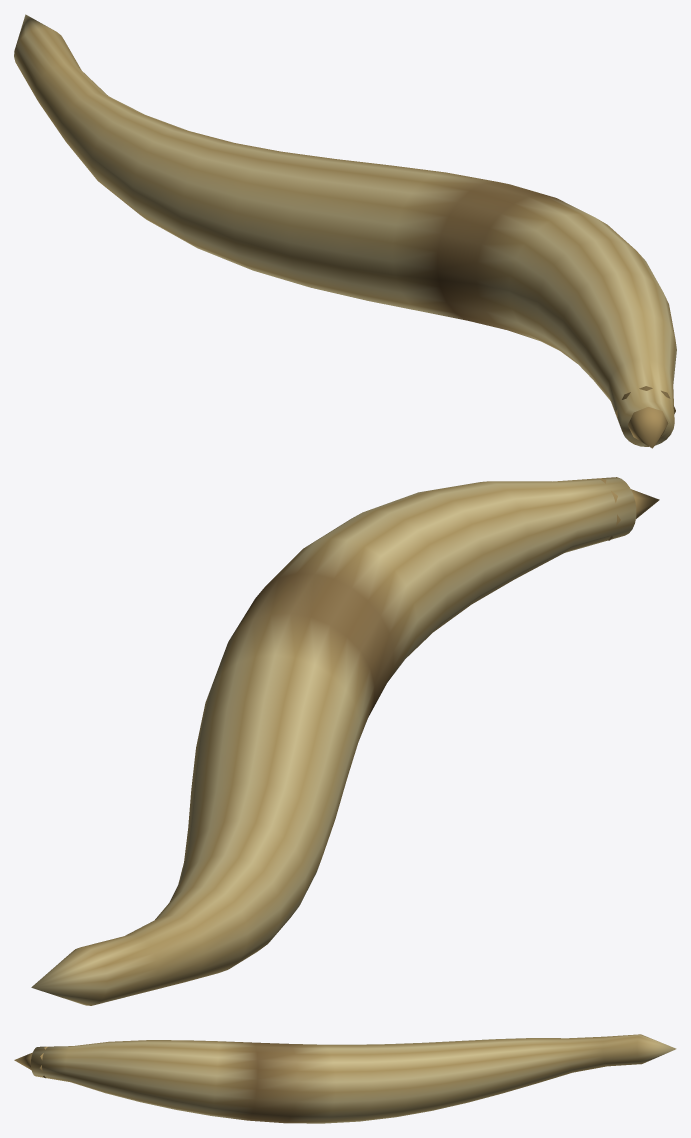
Rendered from Selenidium.fbx.
3 renders of one model, top to bottom at view 1: azimuth 30°, elevation 25°; view 2: azimuth 150°, elevation 25°; view 3: azimuth 270°, elevation 25°, orthographic. The views are drawn at different scales.
Visible parts, largest first — view 1: Selenidium; view 2: Selenidium; view 3: Selenidium.
Part boxes in pixels (box(x1,y1,x2,y2)): Selenidium: box(14, 14, 676, 448); Selenidium: box(31, 477, 659, 1005); Selenidium: box(14, 1034, 676, 1123).
Bounding box in the file's own units: 0.3753 × 0.2375 × 1.55.
